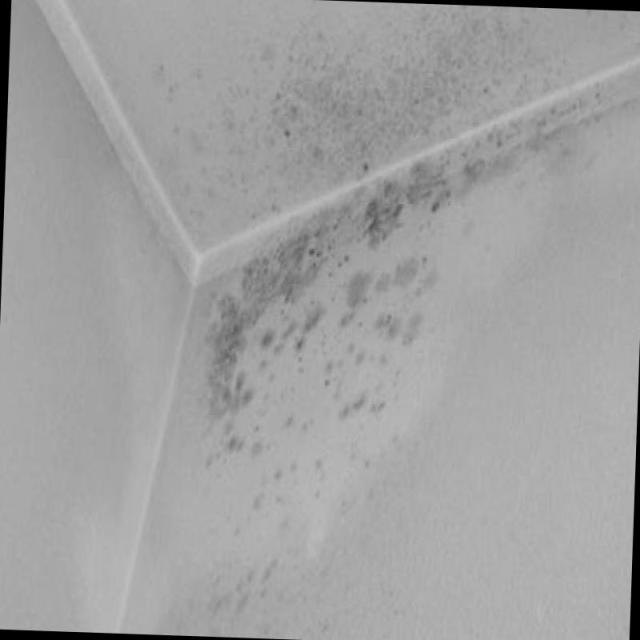stain marks: (134, 6, 640, 617)
